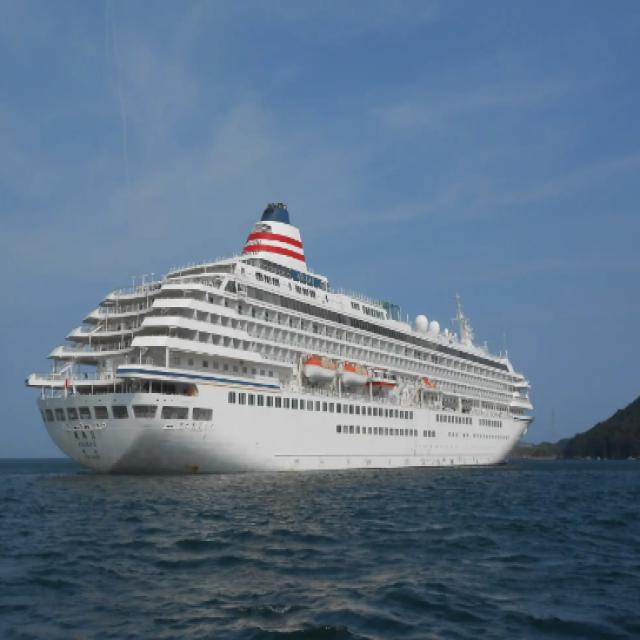passenger ship: (18, 144, 539, 476)
